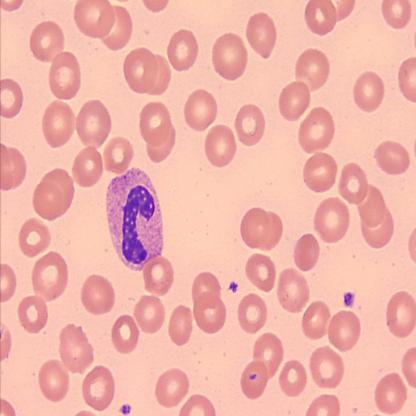Band Neutrophil: (104, 164, 166, 277)
